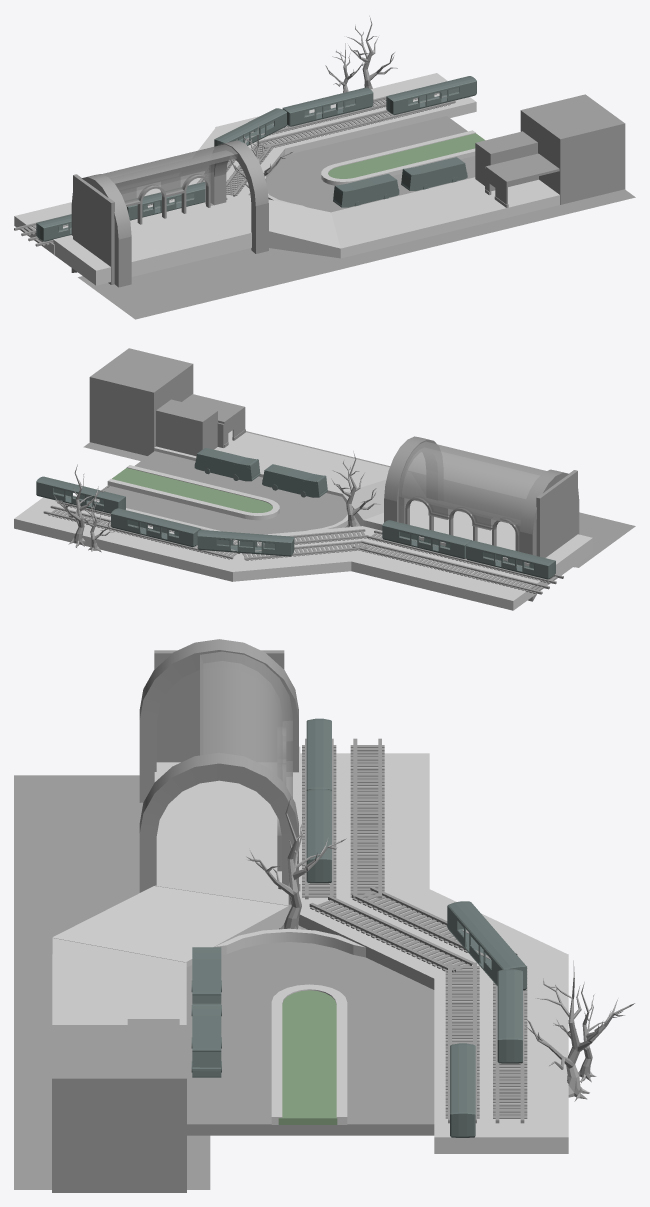
Rendered from Station hub Blockout.fbx.
3 renders of one model, top to bottom at view 1: azimuth 30°, elevation 25°; view 2: azimuth 150°, elevation 25°; view 3: azimuth 270°, elevation 25°, orthographic. The views are drawn at different scales.
Parts seen in each view (by area): view 1: pPlane12, pCube147, pCube191, pCube151, pCube157, pCube156, pCylinder58, pCube150, pCube152, pCylinder59, pCube190, pCylinder60 (+17 smaller); view 2: pCube156, pCylinder58, pCube191, pCube157, pCube147, pCube151, pCube189, pCube152, pCube190, pCube188, pCylinder62, pPlane12 (+19 smaller); view 3: pCube156, pCube157, pPlane12, pCube191, pCube151, pCube150, pCube147, pCylinder58, pCube190, pCylinder59, pCylinder60, pCube188 (+18 smaller).
Boxes of the visible parts, x1,y1,x2,y2 form: pPlane12: [78, 189, 635, 319]; pCube147: [331, 177, 559, 258]; pCube191: [520, 94, 625, 204]; pCube151: [53, 195, 251, 285]; pCube157: [266, 116, 475, 212]; pCube156: [14, 73, 476, 254]; pCylinder58: [102, 144, 237, 205]; pCube150: [249, 195, 340, 258]; pCube152: [73, 174, 114, 284]; pCylinder59: [210, 140, 268, 253]; pCube190: [328, 133, 484, 178]; pCylinder60: [71, 174, 131, 287]; pCube156: [14, 495, 551, 610]; pCylinder58: [398, 441, 546, 551]; pCube191: [89, 348, 193, 455]; pCube157: [94, 451, 360, 534]; pCube147: [154, 430, 389, 496]; pCube151: [363, 500, 592, 580]; pCube189: [156, 399, 217, 456]; pCube152: [536, 470, 577, 557]; pCube190: [112, 468, 272, 512]; pCube188: [352, 540, 549, 594]; pCylinder62: [107, 465, 279, 520]; pPlane12: [83, 431, 635, 567]; pCube156: [298, 753, 568, 1153]; pCube157: [186, 904, 434, 1135]; pPlane12: [14, 775, 210, 1189]; pCube191: [52, 1025, 186, 1192]; pCube151: [154, 746, 300, 905]; pCube150: [52, 886, 288, 966]; pCube147: [52, 938, 186, 1024]; pCylinder58: [200, 651, 292, 797]; pCube190: [278, 990, 337, 1124]; pCylinder59: [139, 752, 298, 904]; pCylinder60: [139, 639, 298, 802]; pCube188: [350, 738, 384, 898].
Bounding box in the file's own units: 134 × 27.37 × 82.66.
